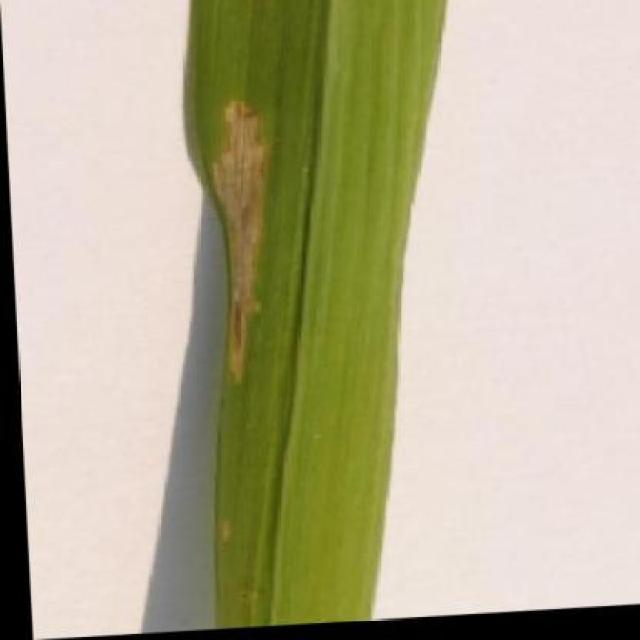Brown_Spot: (168, 0, 480, 632)
